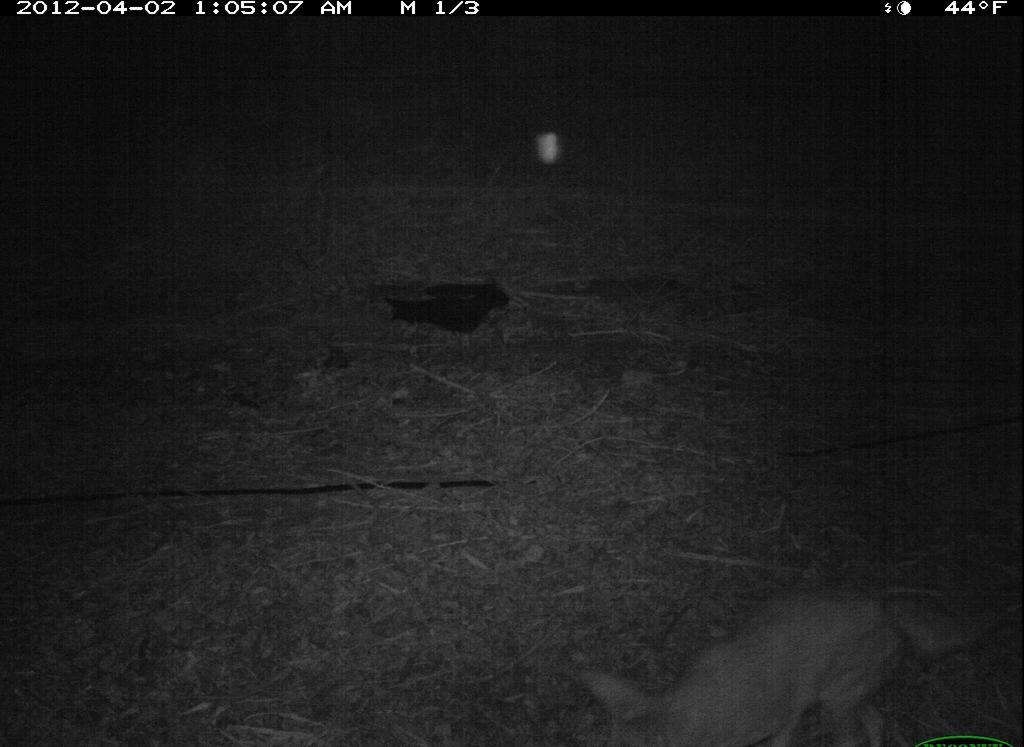coyote: (553, 570, 976, 747)
